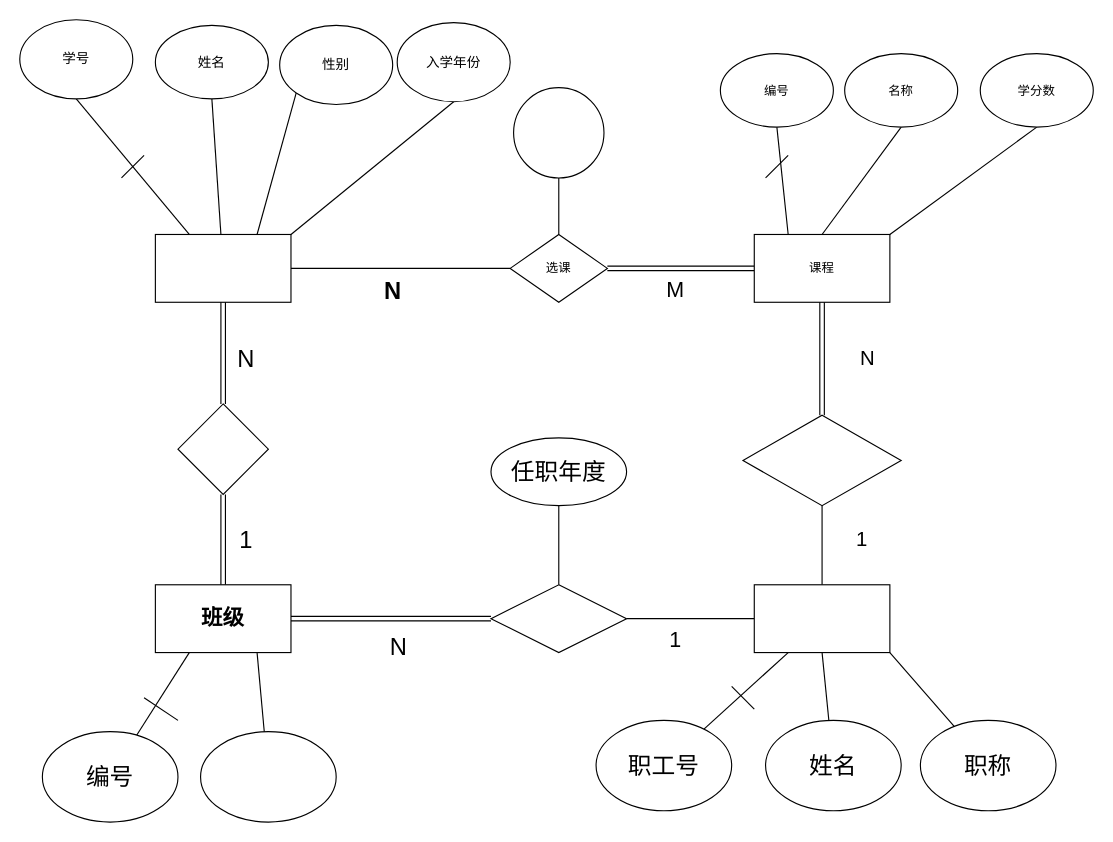
The diagram is 1113 pixels wide and 842 high, and some of its shapes have lost their labels. The centre of each missing label's shape, as x and y in pixels:
"任课" belongs at [821,460].
"学生" belongs at [222,267].
"成绩" belongs at [558,132].
"所属院系" belongs at [267,776].
"教师" belongs at [821,618].
"班主任" belongs at [558,618].
"组成" belongs at [222,448].
